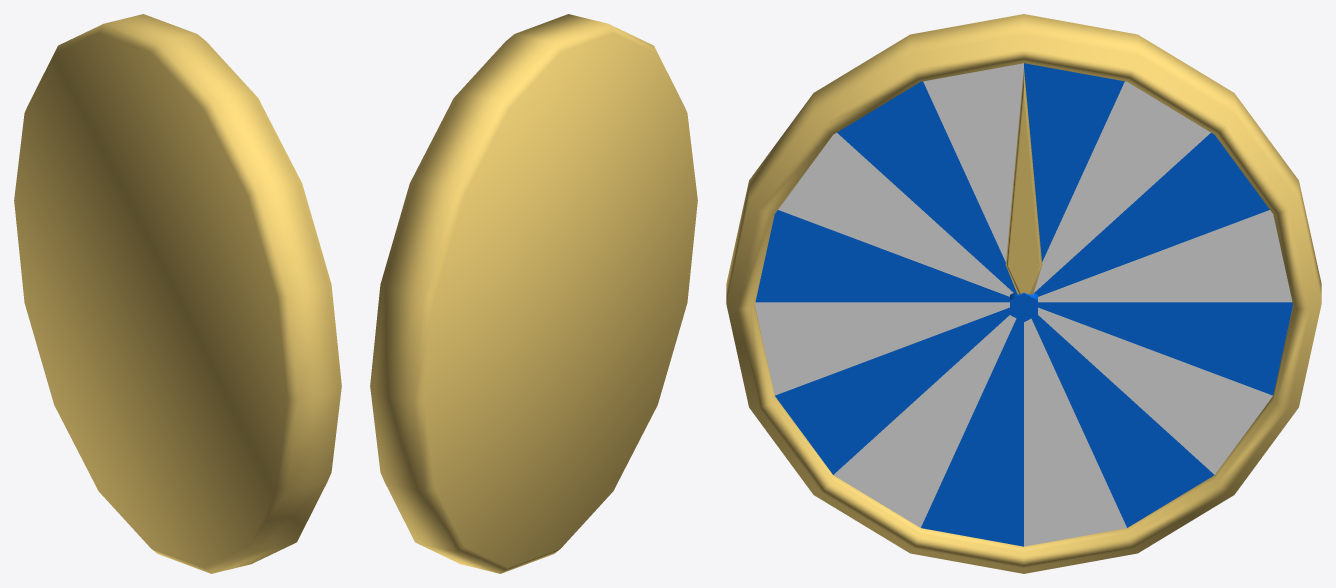
The model's file is clockwork.glb.
The picture shows the model from 3 angles, left to right: view 1: azimuth 30°, elevation 25°; view 2: azimuth 150°, elevation 25°; view 3: azimuth 270°, elevation 25°; orthographic projection. The views are drawn at different scales.
Visible parts, largest first — view 1: clockwork; view 2: clockwork; view 3: clockwork, clockwork_arrow.
Boxes of the visible parts, x1,y1,x2,y2 form: clockwork: [14, 14, 341, 573]; clockwork: [370, 14, 697, 573]; clockwork: [726, 14, 1321, 573]; clockwork_arrow: [1005, 69, 1042, 294].
Size of what is drawn, in the model's own units: 0.4687 by 4.12 by 4.12.
1 material, 1 textured.
